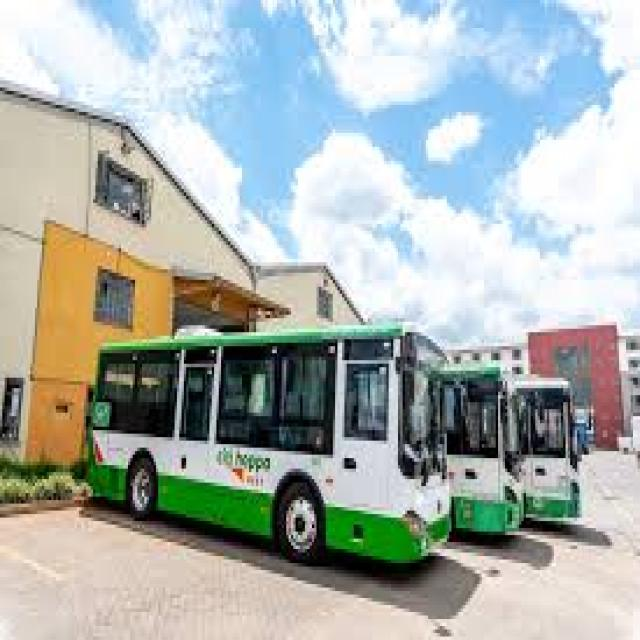bus: (80, 286, 470, 610)
